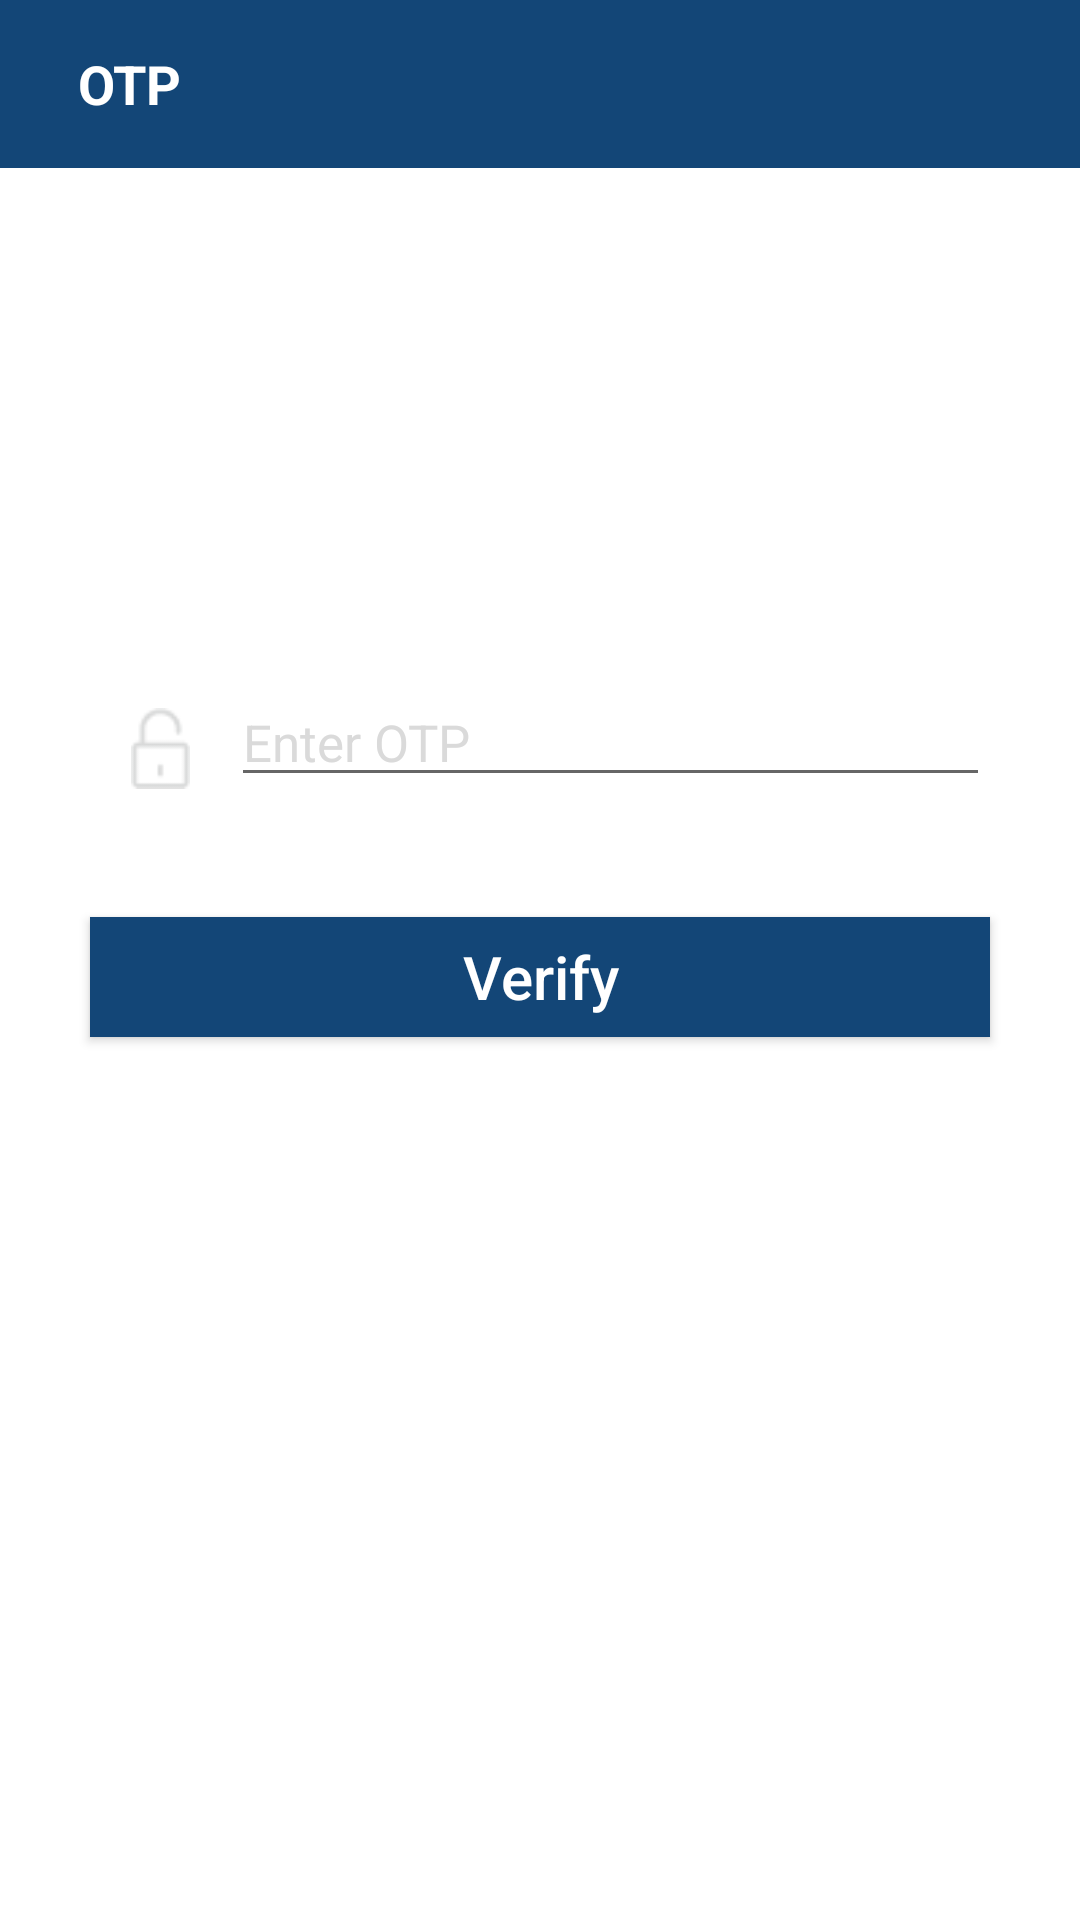

Locate icon controls on the screen. Image size 1080w x 1920h, boxes as (x1, y1, x2, y2).
lock: (133, 710, 188, 789)
